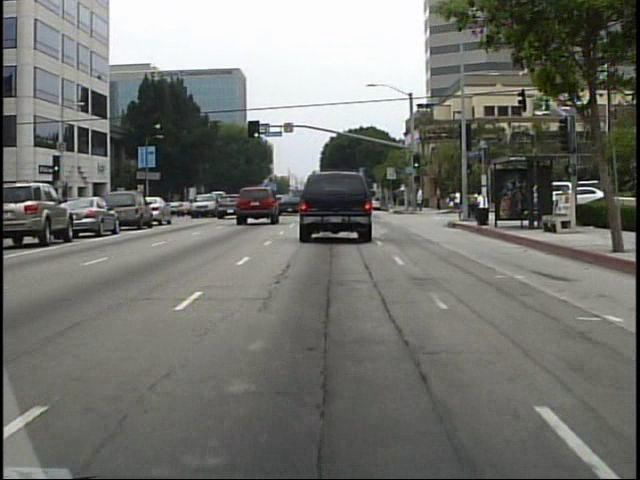person: (415, 184, 428, 215), (433, 181, 445, 214), (393, 188, 400, 209)
